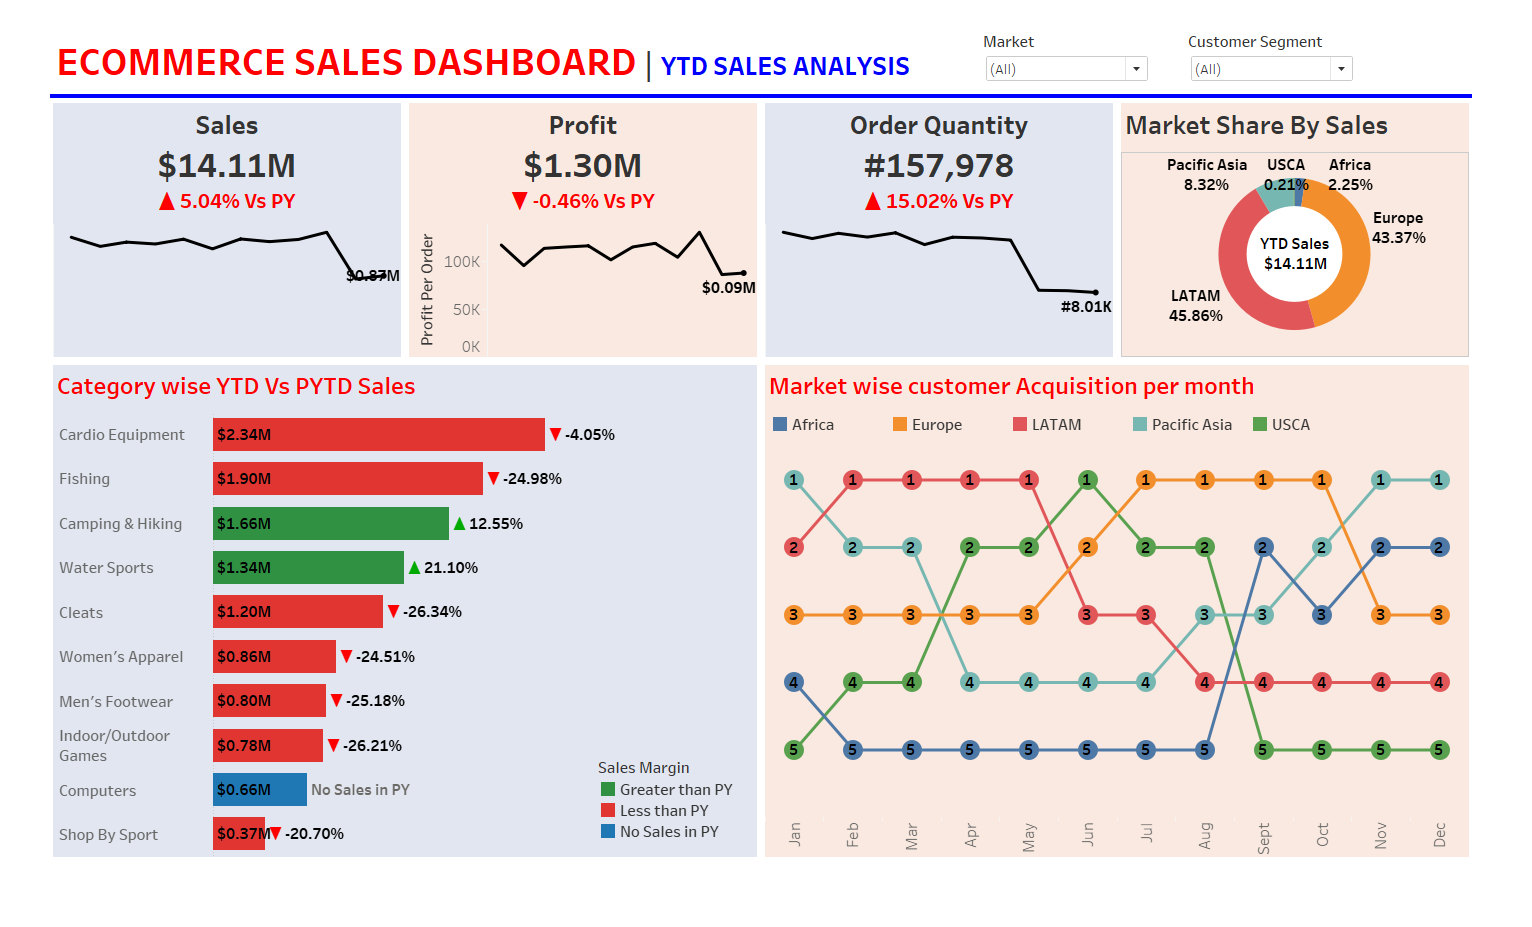

The page's visual inventory and layout, read from the dashboard file:
{"tool":"tableau","page":{"name":"Dashboard 1","canvas":[1600,850],"ordinal":0},"visuals":[{"type":"title","box":[8,8,1424,66]},{"type":"filter","title":"Category wise YTD Vs PYTD Sales","param":"[federated.0i0120103bdalz1e7zn87095zpt2].[none:Market:nk]","box":[942,12,168,54]},{"type":"filter","title":"Category wise YTD Vs PYTD Sales","param":"[federated.0i0120103bdalz1e7zn87095zpt2].[none:Customer Segment:nk]","box":[1147,12,168,64]},{"type":"blank","box":[8,74,1424,6]},{"type":"worksheet","title":"Sales KPI","mark":"Automatic","rows":["Sales"],"cols":["Order Date"],"box":[8,80,356,262]},{"type":"worksheet","title":"Profit KPI","mark":"Automatic","rows":["Profit Per Order"],"cols":["Order Date"],"box":[364,80,356,262]},{"type":"worksheet","title":"Order Quantity","mark":"Automatic","rows":["Order Quantity"],"cols":["Order Date"],"box":[720,80,356,262]},{"type":"worksheet","title":"Market Share By Sales","mark":"Pie","cols":["Calculation_1029916990699851787","Calculation_1029916990699868173"],"box":[1076,80,356,262]},{"type":"worksheet","title":"Category wise YTD Vs PYTD Sales","mark":"Bar","rows":["Category Name"],"cols":["Calculation_1029916990701969422","Calculation_1029916990701969422"],"box":[8,342,712,500]},{"type":"worksheet","title":"Market wise customer Acquisition per month","mark":"Automatic","cols":["Order Date"],"box":[720,342,712,500]},{"type":"legend","title":"Market wise customer Acquisition per month","param":"[federated.0i0120103bdalz1e7zn87095zpt2].[none:Market:nk]","box":[729,395,665,37]},{"type":"legend","title":"Category wise YTD Vs PYTD Sales","param":"[federated.0i0120103bdalz1e7zn87095zpt2].[usr:Calculation_1029916990732869649:nk","box":[557,738,140,85]}]}

Visuals, with their boxes on the page's 1600x850 design canvas (x1, y1, x2, y2). These are canvas units, not pixel positions in the 1532x927 screenshot, which may show the page scaled, cropped or inside an application window:
title: 8,8,1432,74
"Category wise YTD Vs PYTD Sales" filter: 942,12,1110,66
"Category wise YTD Vs PYTD Sales" filter: 1147,12,1315,76
blank: 8,74,1432,80
"Sales KPI" worksheet: 8,80,364,342
"Profit KPI" worksheet: 364,80,720,342
"Order Quantity" worksheet: 720,80,1076,342
"Market Share By Sales" worksheet (Pie marks): 1076,80,1432,342
"Category wise YTD Vs PYTD Sales" worksheet (Bar marks): 8,342,720,842
"Market wise customer Acquisition per month" worksheet: 720,342,1432,842
"Market wise customer Acquisition per month" legend: 729,395,1394,432
"Category wise YTD Vs PYTD Sales" legend: 557,738,697,823
